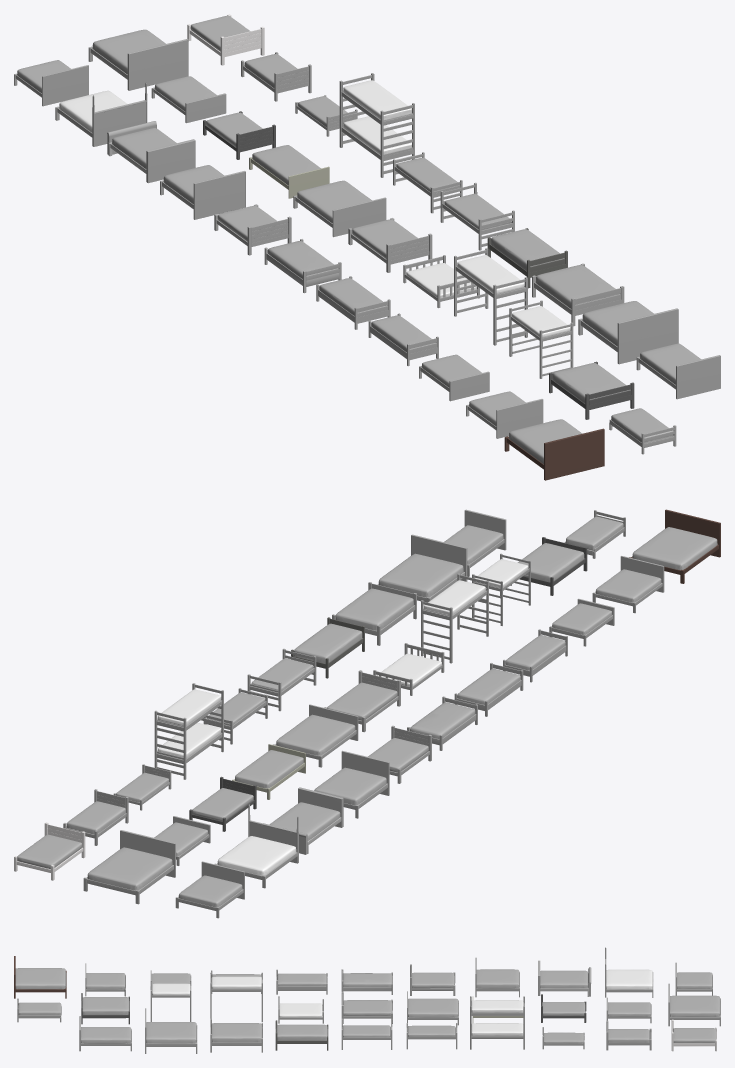
Rendered from beds_grp.fbx.
The picture shows the model from 3 angles, top to bottom: view 1: azimuth 30°, elevation 25°; view 2: azimuth 150°, elevation 25°; view 3: azimuth 270°, elevation 25°; orthographic projection. The views are drawn at different scales.
Visible parts, largest first — view 1: bed_9, bed_11, bed_30, bed_4, bed_24, bed_23, bed_mattress_8, bed_22, bed_10, bed_18_1, bed_mattress_19, bed_21 (+52 smaller); view 2: bed_mattress_9, bed_mattress_11, bed_mattress_30, bed_4, bed_mattress_8, bed_mattress_15, bed_mattress_22, bed_18_1, bed_11, bed_mattress_24, bed_mattress_7, bed_mattress_14 (+45 smaller); view 3: bed_mattress_30, bed_mattress_9, bed_mattress_11, bed_mattress_8, bed_mattress_15, bed_mattress_22, bed_mattress_23, bed_mattress_24, bed_mattress_7, bed_mattress_19, bed_mattress_10, bed_mattress_16 (+46 smaller).
Boxes of the visible parts, box(x1,y1,x2,y2) form: bed_9: box(578, 308, 678, 364); bed_11: box(88, 39, 188, 90); bed_30: box(504, 428, 604, 480); bed_4: box(339, 73, 414, 177); bed_24: box(160, 171, 245, 219); bed_23: box(107, 121, 195, 183); bed_mattress_8: box(535, 265, 619, 308); bed_22: box(55, 82, 147, 146); bed_10: box(636, 355, 720, 399); bed_18_1: box(454, 248, 527, 345); bed_mattress_19: box(552, 363, 630, 403); bed_21: box(14, 65, 88, 106); bed_mattress_9: box(378, 553, 463, 597); bed_mattress_11: box(87, 847, 172, 890); bed_mattress_30: box(632, 527, 717, 570); bed_4: box(154, 683, 223, 779); bed_mattress_8: box(335, 588, 413, 630); bed_mattress_15: box(276, 714, 355, 755); bed_mattress_22: box(217, 836, 296, 875); bed_18_1: box(421, 573, 488, 663); bed_11: box(83, 830, 175, 904); bed_mattress_24: box(314, 767, 386, 805); bed_mattress_7: box(294, 623, 362, 663); bed_mattress_14: box(235, 750, 303, 788); bed_mattress_30: box(15, 968, 66, 989); bed_mattress_9: box(146, 1022, 196, 1043); bed_mattress_11: box(670, 995, 720, 1016); bed_mattress_8: box(211, 1023, 262, 1042); bed_mattress_15: box(408, 998, 458, 1017); bed_mattress_22: box(606, 969, 653, 989); bed_mattress_23: box(540, 970, 588, 988); bed_mattress_24: box(476, 969, 519, 988); bed_mattress_7: box(276, 1024, 327, 1040); bed_mattress_19: box(82, 997, 129, 1014); bed_mattress_10: box(81, 1027, 131, 1043); bed_mattress_16: box(343, 1000, 392, 1015).
Bounding box in the file's own units: 806 × 219 × 3241.
